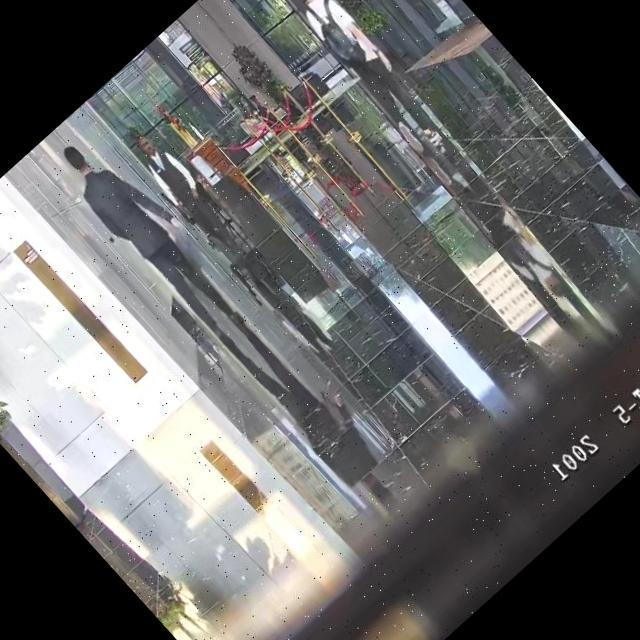person: (49, 123, 263, 352), (274, 0, 450, 154), (118, 120, 256, 268), (246, 90, 275, 120)
